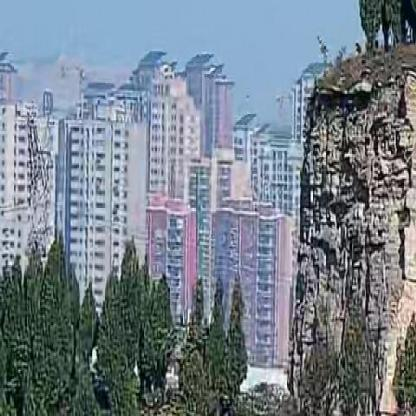other: (256, 101, 400, 357)
